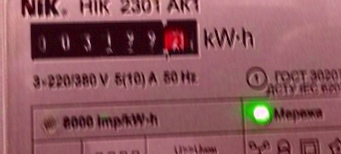0: (61, 32, 72, 51), (38, 33, 47, 52)
1: (105, 29, 114, 47)
3: (83, 32, 93, 52)
6: (171, 36, 181, 50)
9: (126, 28, 136, 48), (148, 30, 158, 48)
screen: (24, 11, 206, 67)
